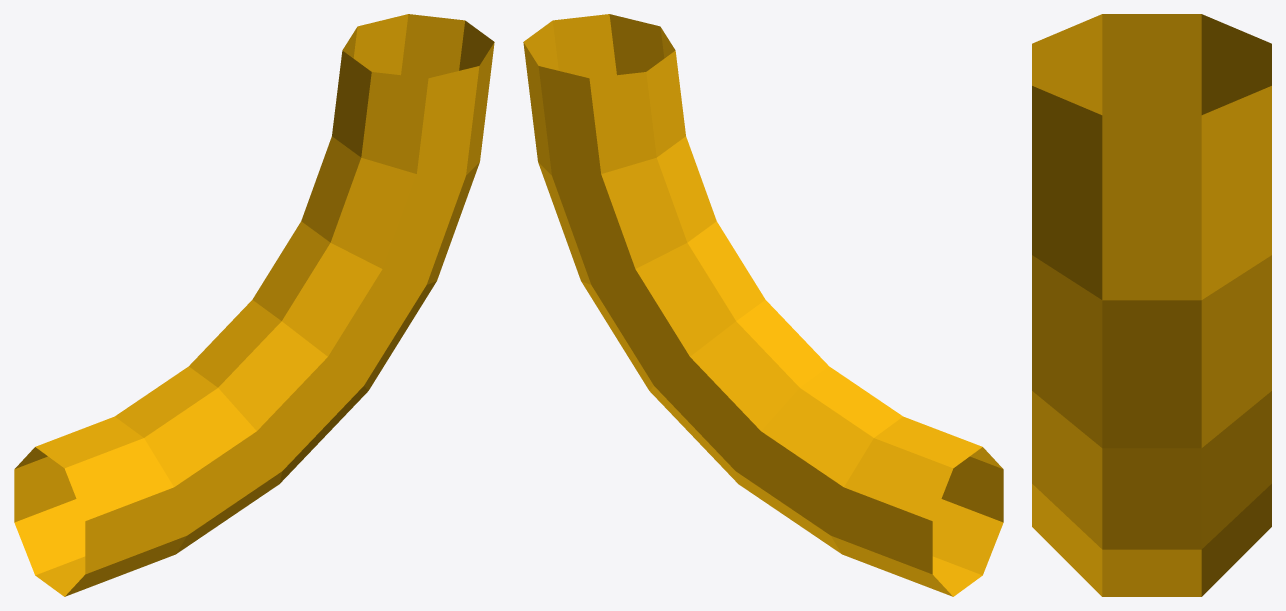
The model's file is fpe_pipe_angle_smooth_2.dae.
3 renders of one model, left to right at view 1: azimuth 30°, elevation 25°; view 2: azimuth 150°, elevation 25°; view 3: azimuth 270°, elevation 25°, orthographic. The views are drawn at different scales.
Parts seen in each view (by area): view 1: pipe_angle_smooth_2; view 2: pipe_angle_smooth_2; view 3: pipe_angle_smooth_2.
Boxes of the visible parts, x1=… form: pipe_angle_smooth_2: x1=14, y1=14, x2=494, y2=596; pipe_angle_smooth_2: x1=523, y1=14, x2=1003, y2=596; pipe_angle_smooth_2: x1=1032, y1=14, x2=1271, y2=596.
Bounding box in the file's own units: 0.4375 × 0.125 × 0.4375.
